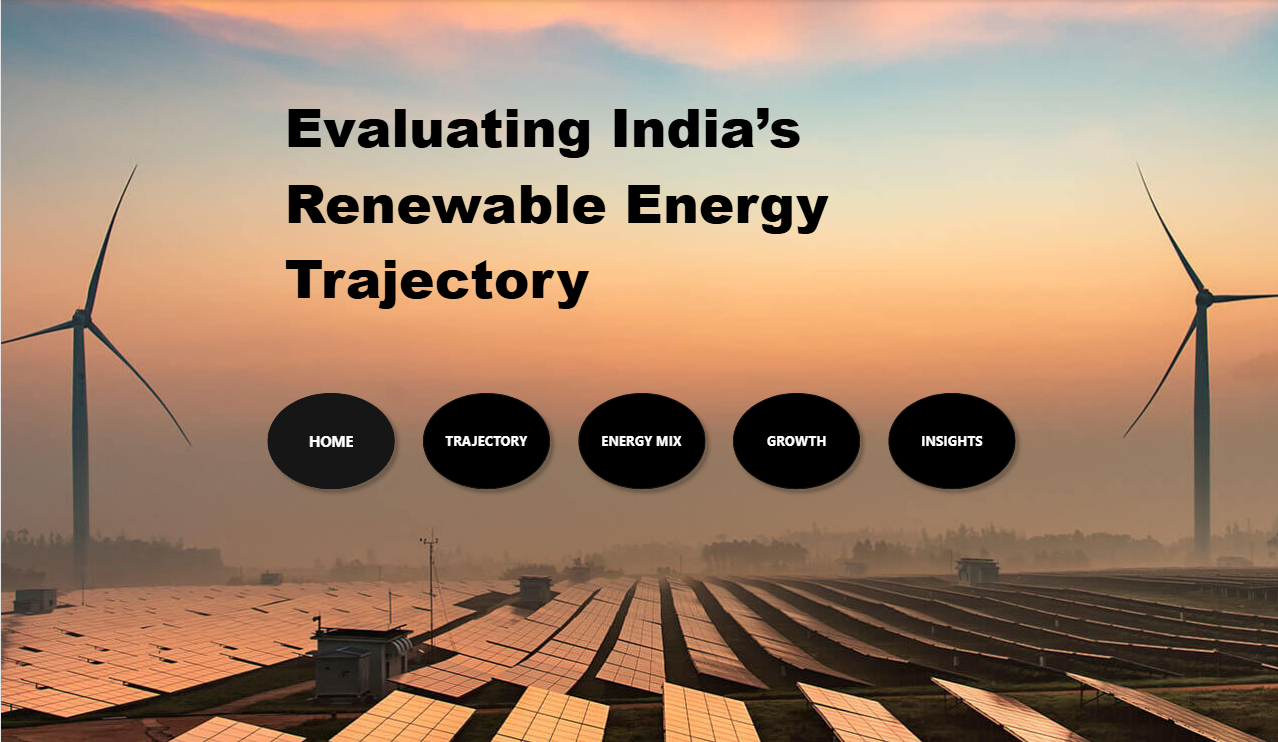

What the dashboard file says about the page in this screenshot:
{"tool":"powerbi","page":{"name":"HOME","canvas":[1280,720],"ordinal":0},"visuals":[{"type":"textbox","box":[278.7,60.3,731.1,237.7],"z":0},{"type":"pageNavigator","box":[257,359.5,766.1,114.6],"z":1000}]}

Visuals, with their boxes on the page's 1280x720 design canvas (x1, y1, x2, y2). These are canvas units, not pixel positions in the 1278x742 screenshot, which may show the page scaled, cropped or inside an application window:
textbox: [279, 60, 1010, 298]
pageNavigator: [257, 360, 1023, 474]
